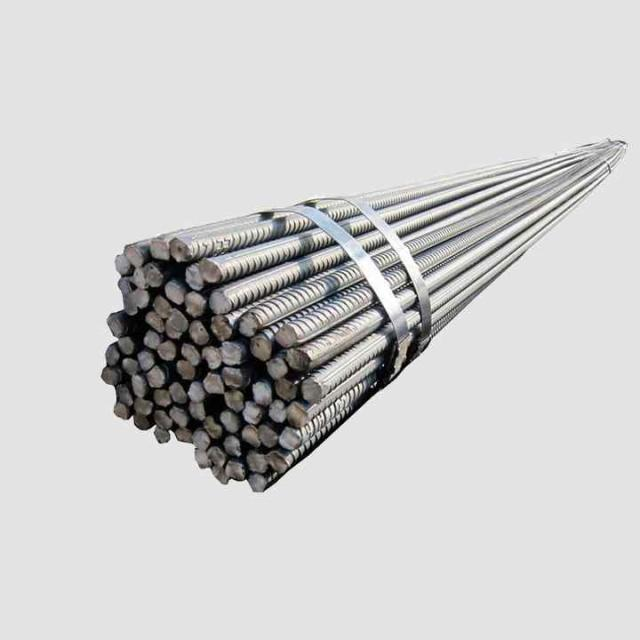Rebar: (298, 379, 327, 405), (286, 347, 313, 372), (287, 400, 310, 428), (253, 334, 277, 359), (223, 365, 248, 389), (170, 236, 193, 262), (200, 258, 223, 284), (222, 340, 245, 366), (208, 315, 233, 338), (122, 242, 144, 268), (239, 311, 261, 337), (212, 291, 235, 315), (150, 237, 172, 262), (203, 372, 225, 396), (277, 377, 301, 399), (129, 375, 150, 400), (188, 322, 209, 347), (254, 380, 275, 405), (269, 453, 291, 476), (222, 410, 242, 435), (166, 279, 185, 305), (202, 344, 221, 370), (108, 316, 129, 339), (225, 391, 248, 412), (241, 401, 262, 424), (257, 424, 278, 447), (280, 426, 301, 449), (276, 324, 296, 348), (225, 435, 244, 460), (167, 309, 189, 330), (269, 357, 290, 379), (187, 293, 207, 316), (181, 342, 201, 365), (248, 451, 269, 472), (270, 400, 290, 422), (188, 380, 207, 403), (113, 402, 134, 422), (146, 313, 166, 334), (187, 268, 205, 291), (243, 424, 260, 448), (147, 264, 163, 289), (159, 337, 175, 362), (178, 427, 197, 448), (143, 332, 164, 351), (174, 361, 196, 379), (211, 465, 230, 485), (100, 367, 120, 386), (115, 384, 134, 404), (155, 408, 174, 428), (193, 431, 211, 452), (115, 255, 132, 277), (154, 296, 171, 318), (123, 294, 139, 317), (134, 287, 150, 310), (139, 354, 158, 373), (202, 420, 222, 438), (229, 460, 246, 481), (134, 415, 153, 433), (210, 446, 228, 465), (171, 406, 189, 425), (165, 322, 184, 340), (248, 475, 268, 492), (192, 400, 209, 420), (172, 383, 188, 404), (154, 389, 172, 407), (106, 346, 122, 366), (119, 278, 133, 300), (135, 398, 153, 415), (150, 368, 166, 387), (133, 268, 148, 288), (119, 337, 136, 354), (123, 359, 140, 376), (197, 449, 211, 469), (158, 428, 172, 447)
